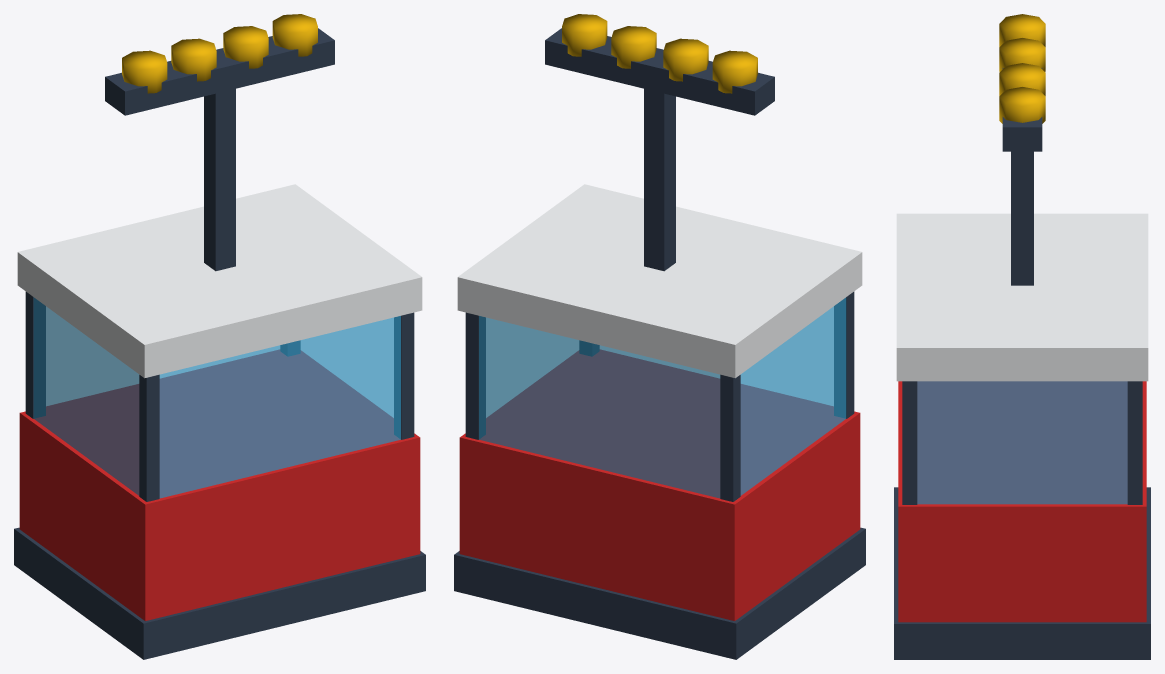
Rendered from prop_08_robin_cable_car_cabin.glb.
The picture shows the model from 3 angles, left to right: view 1: azimuth 30°, elevation 25°; view 2: azimuth 150°, elevation 25°; view 3: azimuth 270°, elevation 25°; orthographic projection.
Visible parts, largest first — view 1: cabin_lower_body, cabin_roof_cap, cabin_glass_band, cabin_floor_bumper, carriage_beam, hanger_vertical_arm, mullion_-0.88_0.68, mullion_0.88_0.68, mullion_-0.88_-0.68, cable_sheave_-0.52, cable_sheave_0.52, cable_sheave_-0.18 (+1 smaller); view 2: cabin_lower_body, cabin_roof_cap, cabin_glass_band, cabin_floor_bumper, carriage_beam, hanger_vertical_arm, mullion_-0.88_-0.68, mullion_0.88_-0.68, mullion_-0.88_0.68, cable_sheave_-0.52, cable_sheave_0.52, cable_sheave_-0.18 (+1 smaller); view 3: cabin_lower_body, cabin_roof_cap, cabin_glass_band, cabin_floor_bumper, hanger_vertical_arm, mullion_0.88_-0.68, mullion_0.88_0.68, cable_sheave_0.52, carriage_beam, cable_sheave_-0.18, cable_sheave_-0.52, cable_sheave_0.18.
Part boxes in pixels (left/top/right/bottom): cabin_lower_body: left=19, top=349, right=420, bottom=620; cabin_roof_cap: left=17, top=184, right=422, bottom=378; cabin_glass_band: left=33, top=297, right=400, bottom=498; cabin_floor_bumper: left=14, top=527, right=425, bottom=659; carriage_beam: left=105, top=28, right=334, bottom=115; hanger_vertical_arm: left=204, top=88, right=235, bottom=271; mullion_-0.88_0.68: left=139, top=374, right=159, bottom=501; mullion_0.88_0.68: left=394, top=312, right=414, bottom=439; mullion_-0.88_-0.68: left=25, top=291, right=45, bottom=418; cable_sheave_-0.52: left=122, top=50, right=167, bottom=93; cable_sheave_0.52: left=272, top=14, right=317, bottom=56; cable_sheave_-0.18: left=171, top=38, right=216, bottom=81; cabin_lower_body: left=459, top=349, right=860, bottom=620; cabin_roof_cap: left=457, top=184, right=862, bottom=378; cabin_glass_band: left=479, top=297, right=846, bottom=498; cabin_floor_bumper: left=454, top=527, right=865, bottom=659; carriage_beam: left=545, top=28, right=774, bottom=115; hanger_vertical_arm: left=644, top=88, right=675, bottom=271; mullion_-0.88_-0.68: left=720, top=374, right=740, bottom=501; mullion_0.88_-0.68: left=465, top=312, right=485, bottom=439; mullion_-0.88_0.68: left=834, top=291, right=854, bottom=418; cable_sheave_-0.52: left=712, top=50, right=757, bottom=93; cable_sheave_0.52: left=562, top=14, right=607, bottom=56; cable_sheave_-0.18: left=663, top=38, right=708, bottom=81; cabin_lower_body: left=898, top=381, right=1146, bottom=622; cabin_roof_cap: left=896, top=213, right=1148, bottom=381; cabin_glass_band: left=917, top=381, right=1127, bottom=504; cabin_floor_bumper: left=894, top=487, right=1150, bottom=659; hanger_vertical_arm: left=1011, top=151, right=1033, bottom=285; mullion_0.88_-0.68: left=1127, top=381, right=1142, bottom=504; mullion_0.88_0.68: left=902, top=381, right=917, bottom=504; cable_sheave_0.52: left=999, top=87, right=1045, bottom=123; carriage_beam: left=1002, top=68, right=1042, bottom=151; cable_sheave_-0.18: left=999, top=38, right=1045, bottom=71; cable_sheave_-0.52: left=999, top=14, right=1045, bottom=46; cable_sheave_0.18: left=999, top=63, right=1045, bottom=95.
Bounding box in the file's own units: 1.95 × 3.54 × 1.55.
